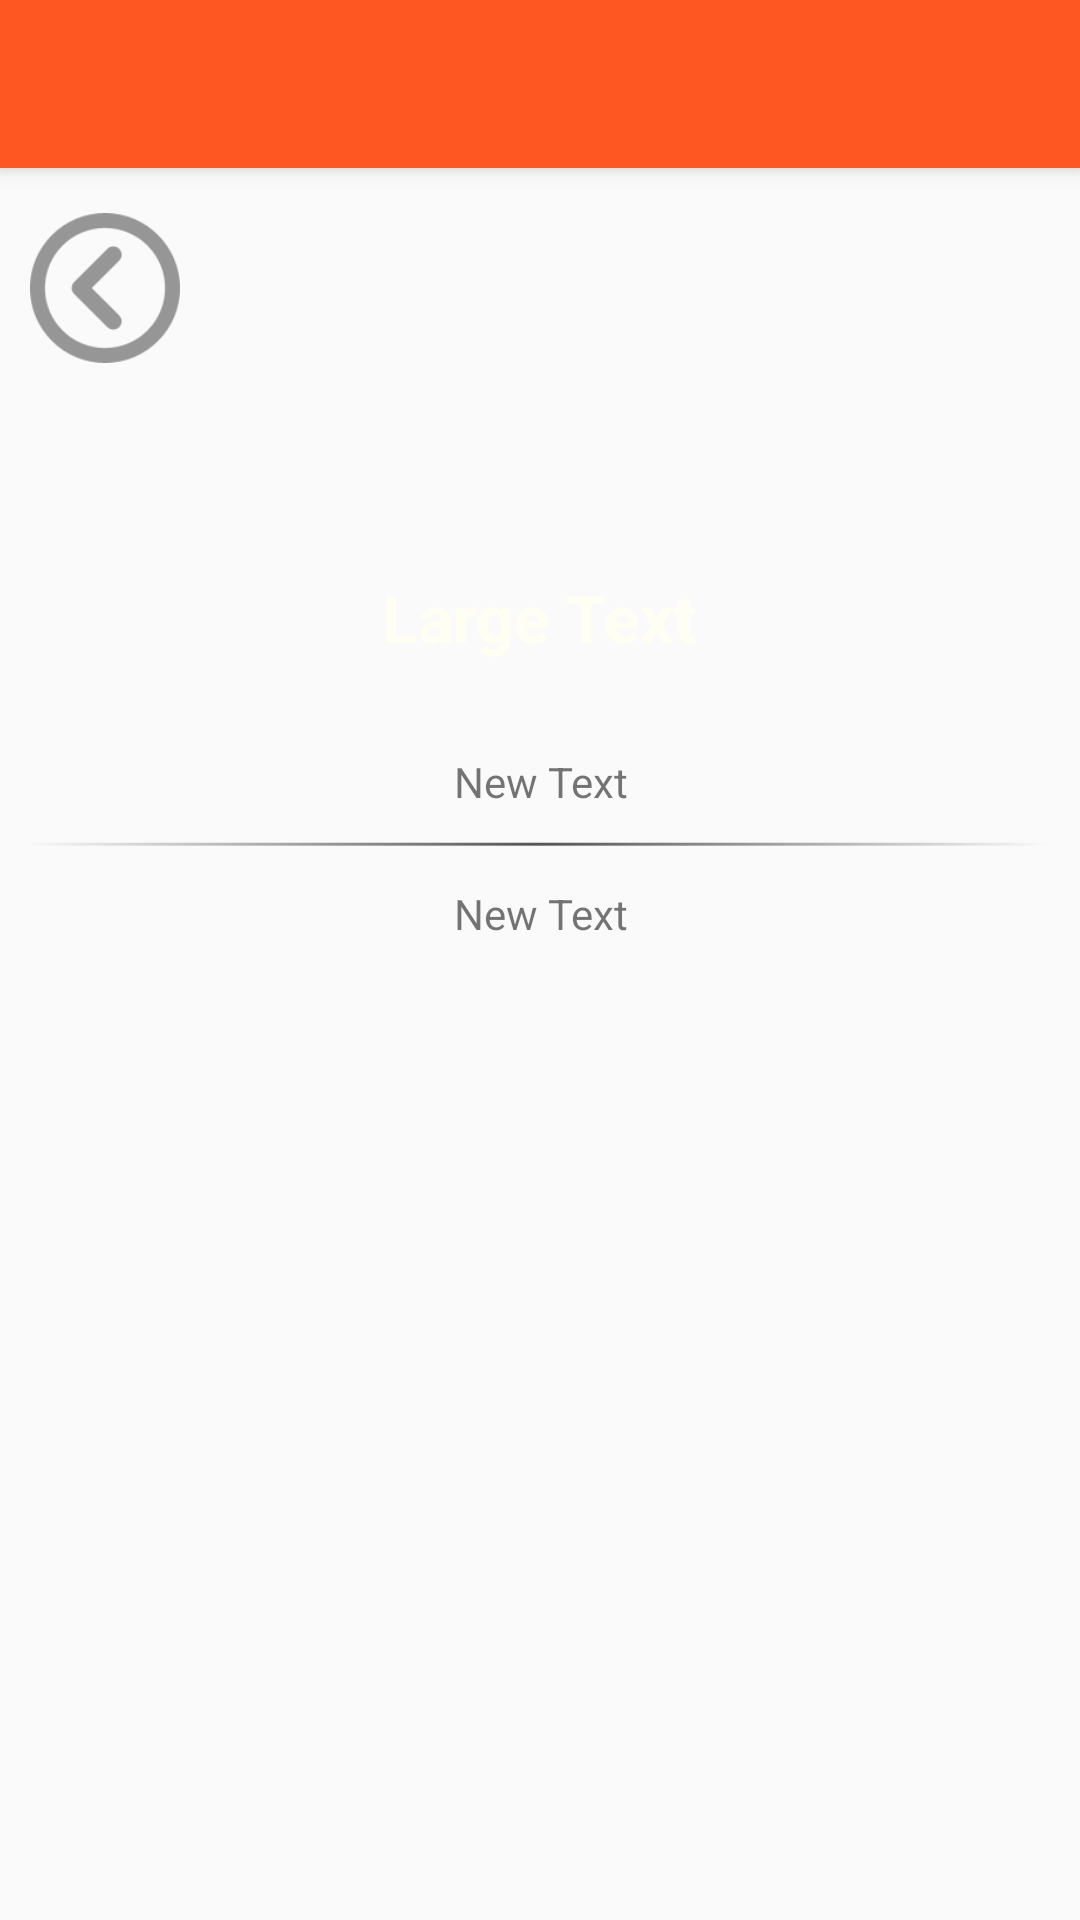

Icon click points for this 1080px x 1920px phone screenshot, format (x,y):
arrow back: (105,288)
